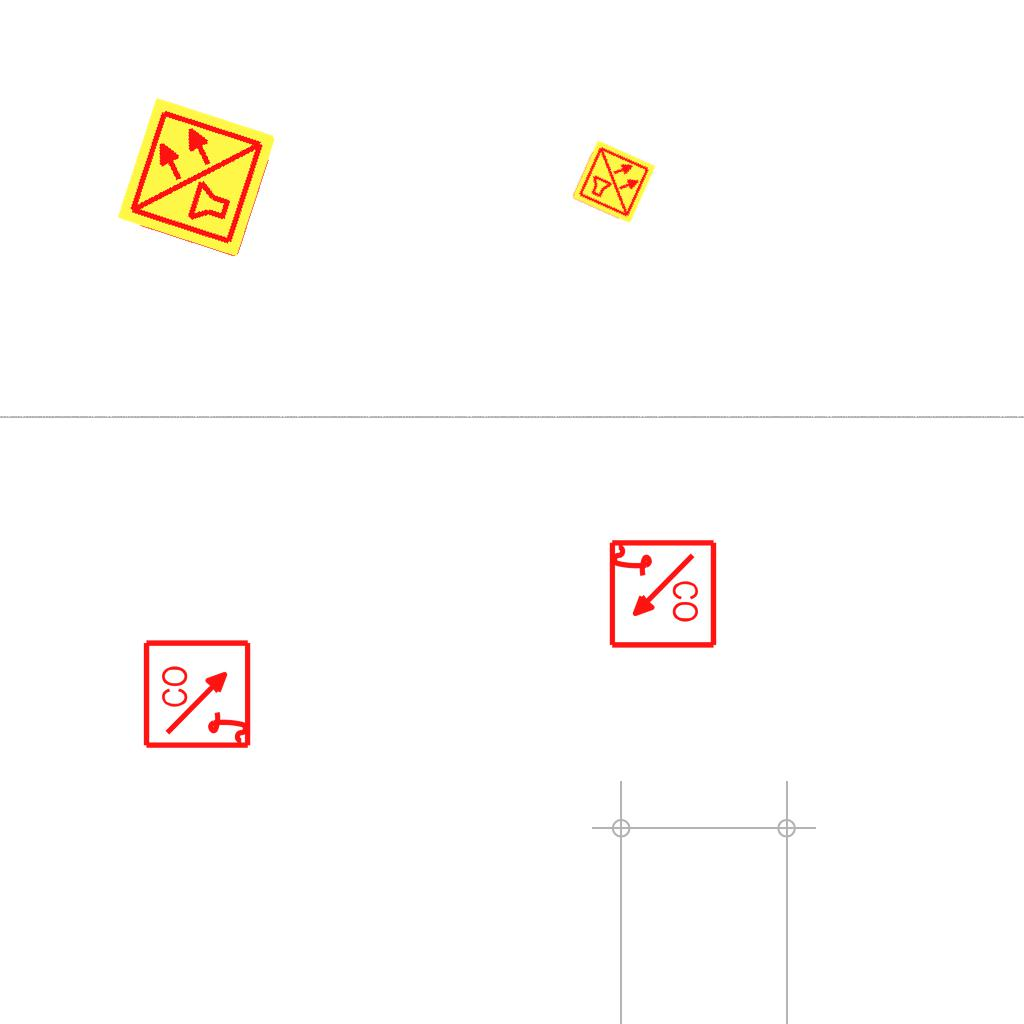OKW_Multisensormelder_(Kombination_optischer_Rauch-Kahlenmonoxid_Waerme-Melder): (113, 93, 281, 261), (570, 138, 658, 226)
ROA_Rauchmelder_optisch_mit_Signalgeber_(Sockelsirene): (605, 538, 718, 651), (142, 637, 255, 750)
